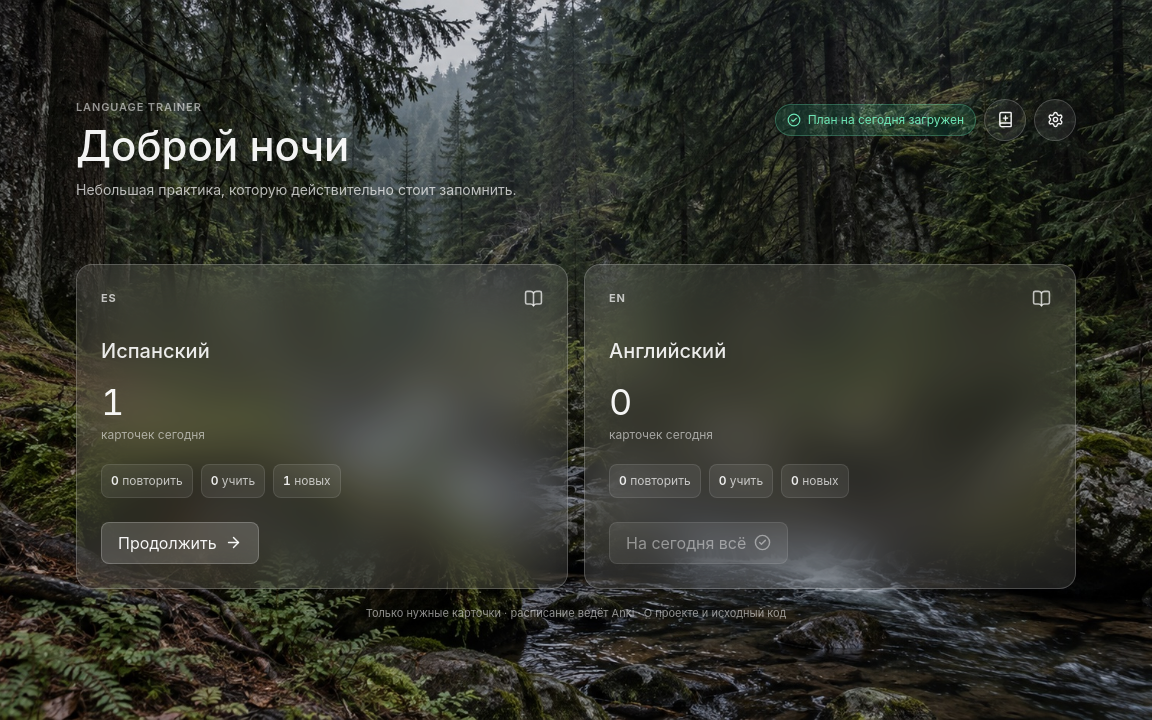
Test: Language Trainer › does not advance when the answer request fails
This screenshot has width=1152, height=720.
Click the button "Продолжить" at [180, 543], box [101,522,259,564]
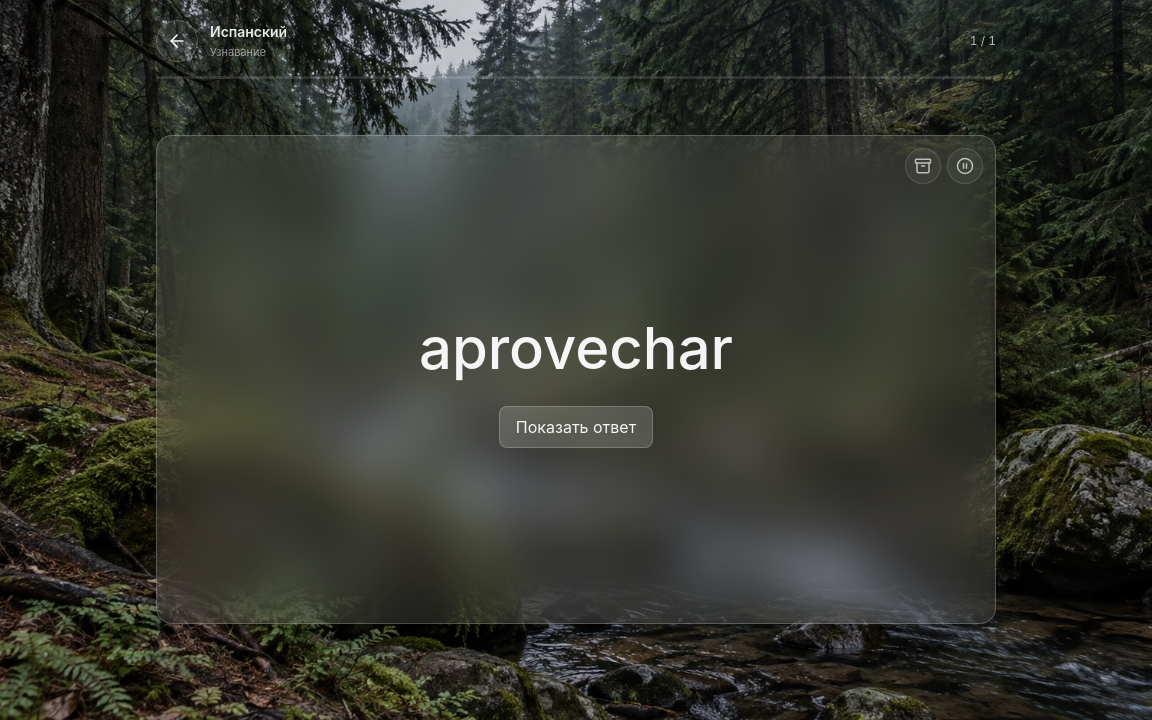
Click the button "Показать ответ" at [576, 427], box [499,406,653,448]
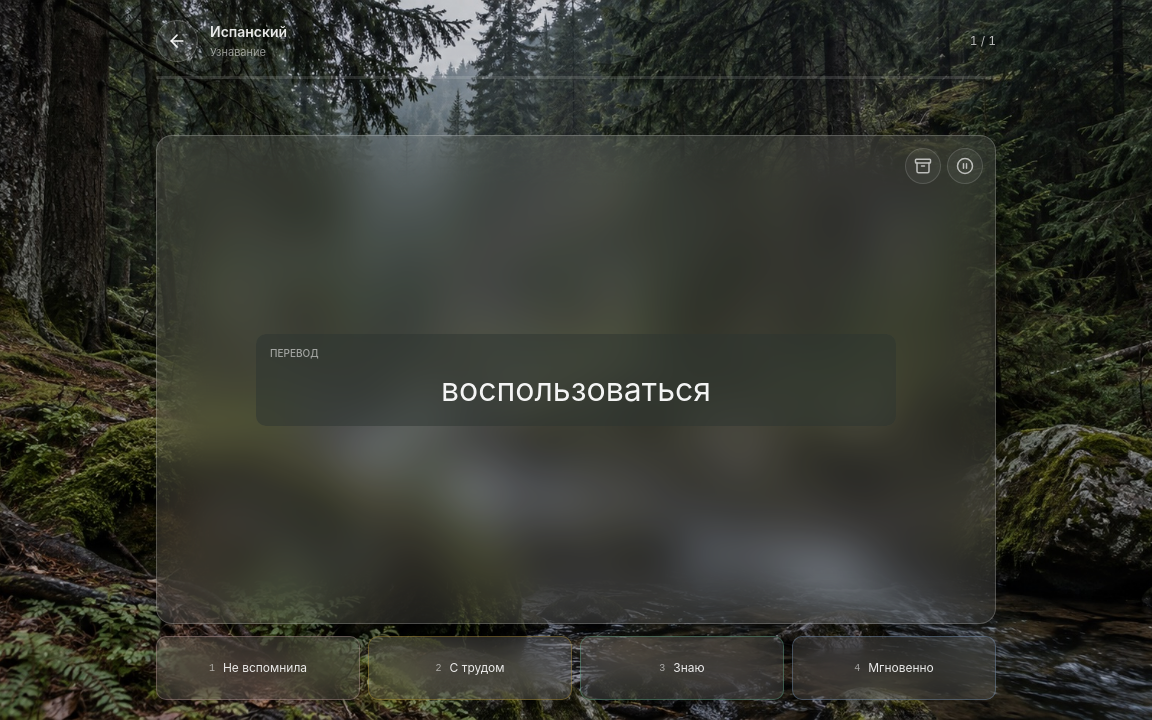
Click the button "3 Знаю" at [682, 668], box [580,636,784,700]
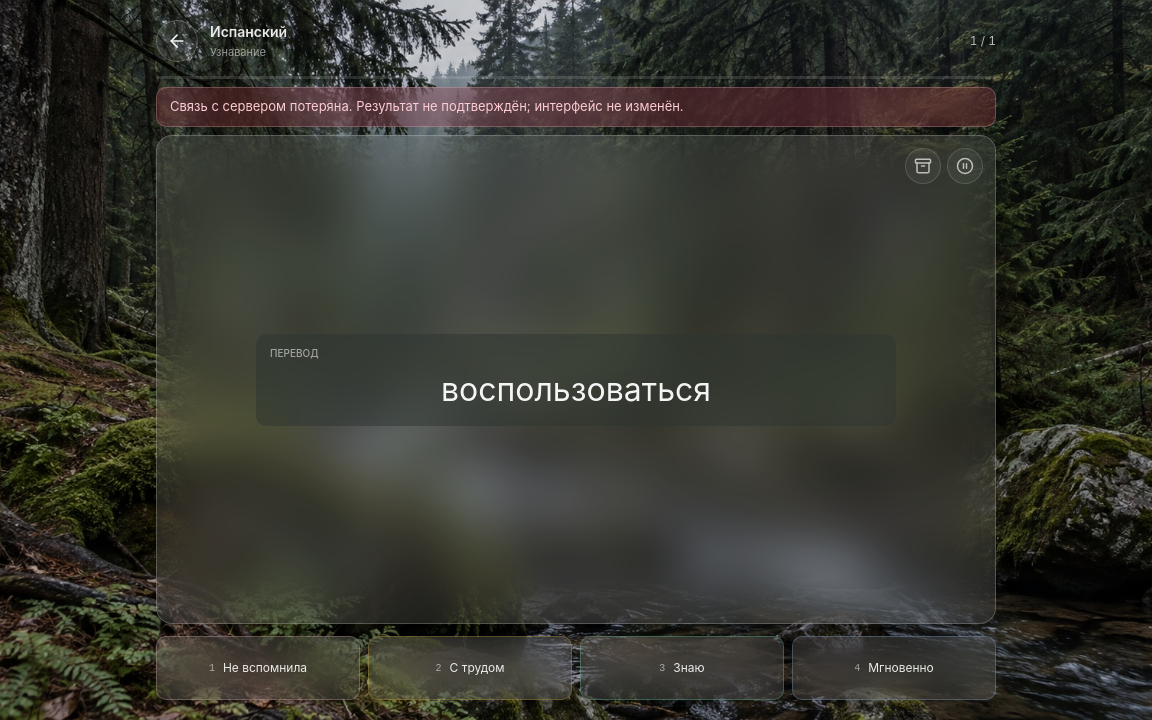
Now the text "воспользоваться" is shown, box [441,370,711,408]
Now the text "Результат не подтверждён" is shown, box [170,98,684,114]
